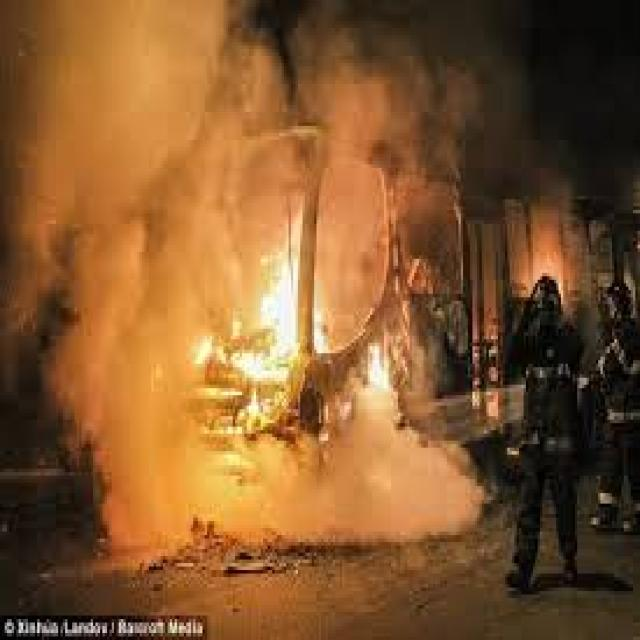Fire: (192, 238, 342, 378), (366, 341, 396, 394)
Smoke: (0, 0, 209, 553), (241, 376, 496, 572), (205, 4, 469, 174)
